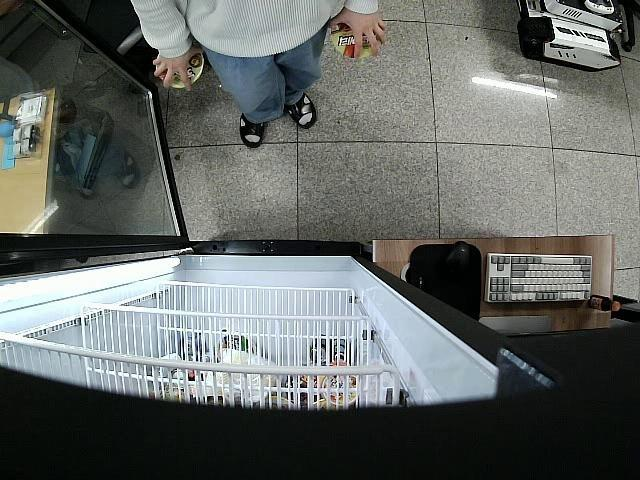03_chapagetti_L: (332, 20, 384, 59), (155, 49, 204, 90)
